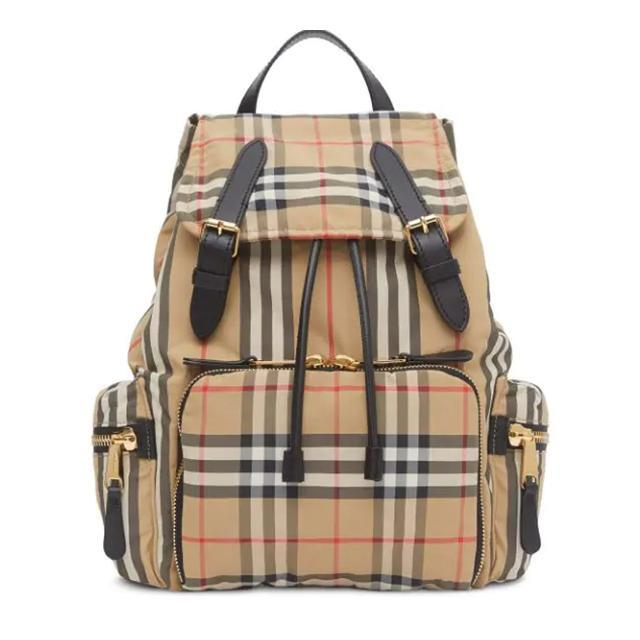Backpacks: (85, 109, 552, 593)
